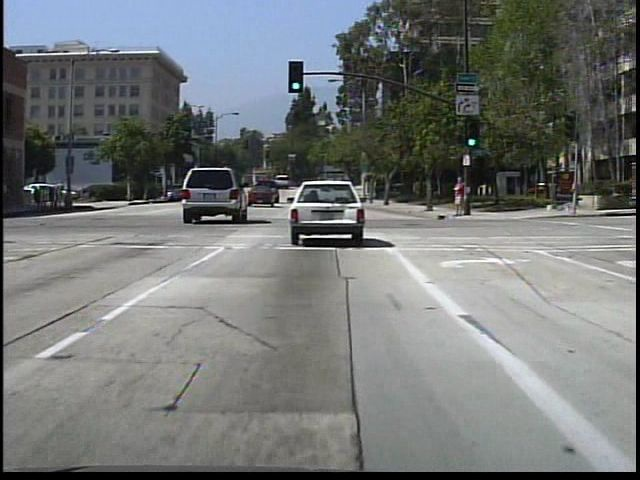person: (449, 171, 470, 218), (57, 181, 68, 213), (65, 183, 75, 210)
